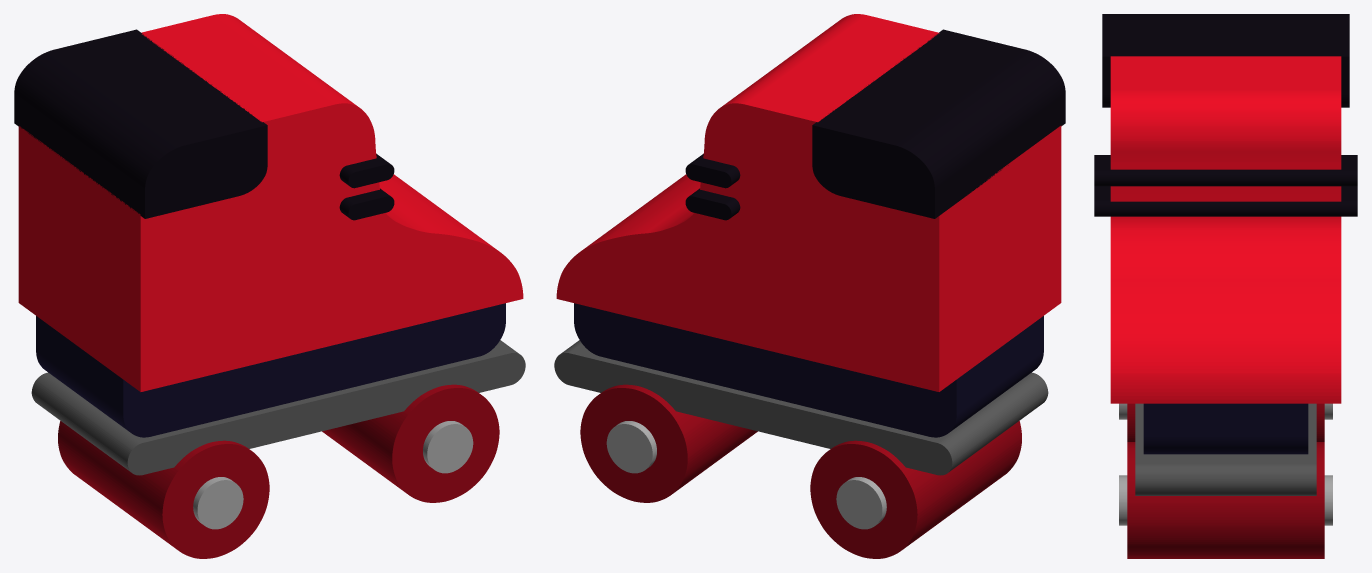
3 views of the same model, side by side, from view 1: azimuth 30°, elevation 25°; view 2: azimuth 150°, elevation 25°; view 3: azimuth 270°, elevation 25° (orthographic). The views are drawn at different scales.
Parts seen in each view (by area): view 1: U+1F6FC_layer04_obj00, U+1F6FC_layer05_obj00, U+1F6FC_layer02_obj00, U+1F6FC_layer00_obj00, U+1F6FC_layer01_obj00, U+1F6FC_layer03_obj00, U+1F6FC_layer06_obj00; view 2: U+1F6FC_layer04_obj00, U+1F6FC_layer05_obj00, U+1F6FC_layer02_obj00, U+1F6FC_layer00_obj00, U+1F6FC_layer01_obj00, U+1F6FC_layer03_obj00, U+1F6FC_layer06_obj00; view 3: U+1F6FC_layer04_obj00, U+1F6FC_layer02_obj00, U+1F6FC_layer05_obj00, U+1F6FC_layer06_obj00, U+1F6FC_layer00_obj00, U+1F6FC_layer01_obj00, U+1F6FC_layer03_obj00.
Boxes of the visible parts, x1,y1,x2,y2 form: U+1F6FC_layer04_obj00: (18, 14, 523, 391); U+1F6FC_layer05_obj00: (14, 29, 267, 218); U+1F6FC_layer02_obj00: (58, 384, 499, 558); U+1F6FC_layer00_obj00: (36, 303, 505, 437); U+1F6FC_layer01_obj00: (31, 340, 525, 475); U+1F6FC_layer03_obj00: (193, 421, 473, 529); U+1F6FC_layer06_obj00: (339, 154, 394, 220); U+1F6FC_layer04_obj00: (556, 14, 1061, 391); U+1F6FC_layer05_obj00: (812, 29, 1065, 218); U+1F6FC_layer02_obj00: (580, 384, 1021, 558); U+1F6FC_layer00_obj00: (574, 303, 1043, 437); U+1F6FC_layer01_obj00: (554, 340, 1048, 475); U+1F6FC_layer03_obj00: (606, 421, 886, 529); U+1F6FC_layer06_obj00: (685, 154, 740, 220); U+1F6FC_layer04_obj00: (1110, 56, 1341, 403); U+1F6FC_layer02_obj00: (1127, 403, 1324, 558); U+1F6FC_layer05_obj00: (1102, 14, 1349, 107); U+1F6FC_layer06_obj00: (1094, 155, 1357, 216); U+1F6FC_layer00_obj00: (1143, 403, 1308, 454); U+1F6FC_layer01_obj00: (1135, 403, 1316, 495); U+1F6FC_layer03_obj00: (1119, 403, 1332, 525).
Bounding box in the file's own units: 0.5272 × 0.5474 × 0.32.
